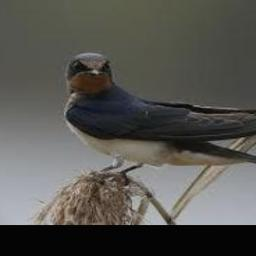Swallow: (63, 52, 256, 174)
